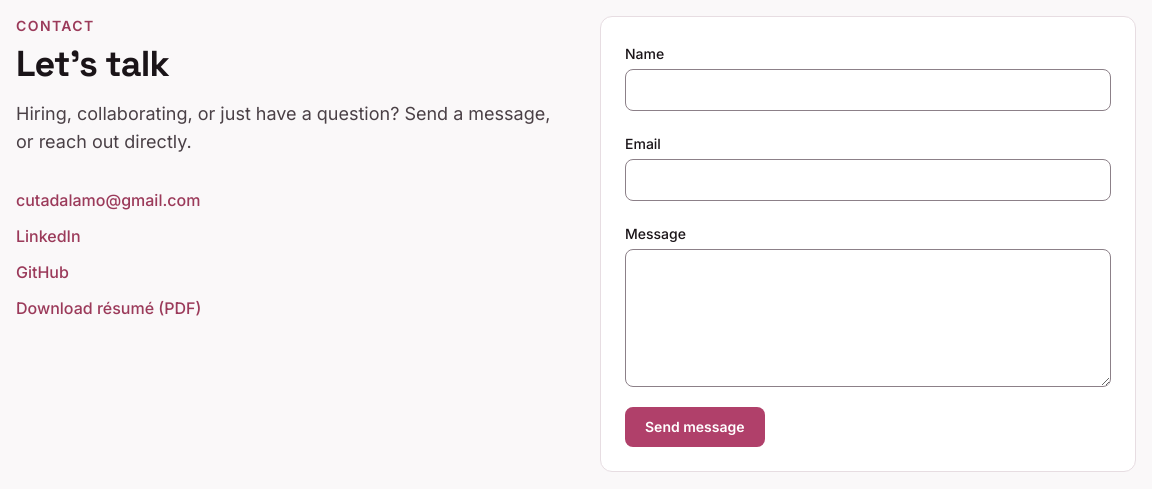
Test: Contact form › shows the server message when rate-limited
In the field labelled "Name": (868, 90) [625, 69, 1111, 111], type "Jane Recruiter"
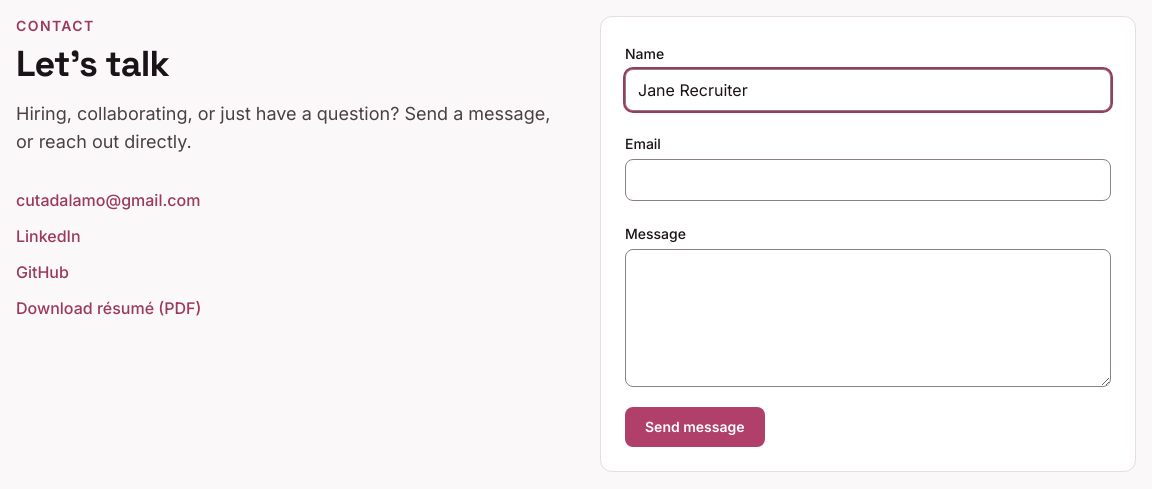
In the field labelled "Email": (868, 180) [625, 159, 1111, 201], type "jane@example.com"
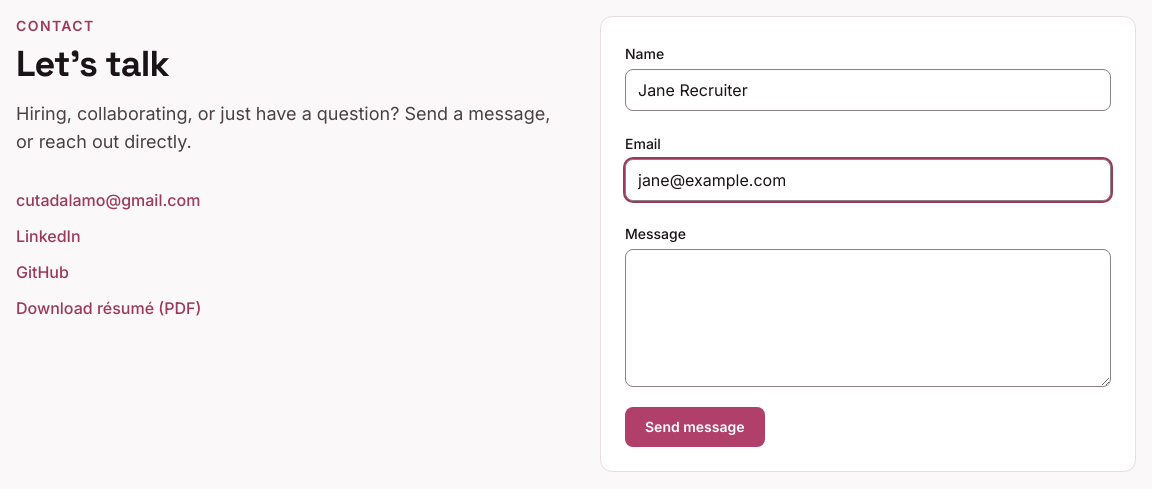
In the text box labelled "Message": (868, 318) [625, 249, 1111, 387], type "We would like to talk about a role."
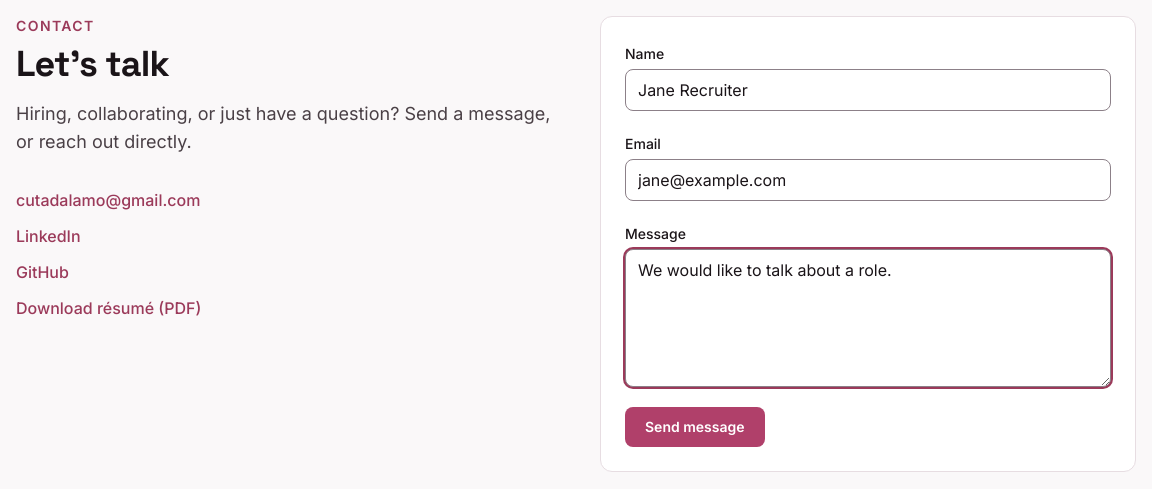
Click the button "Send message": (695, 427) [625, 407, 765, 447]
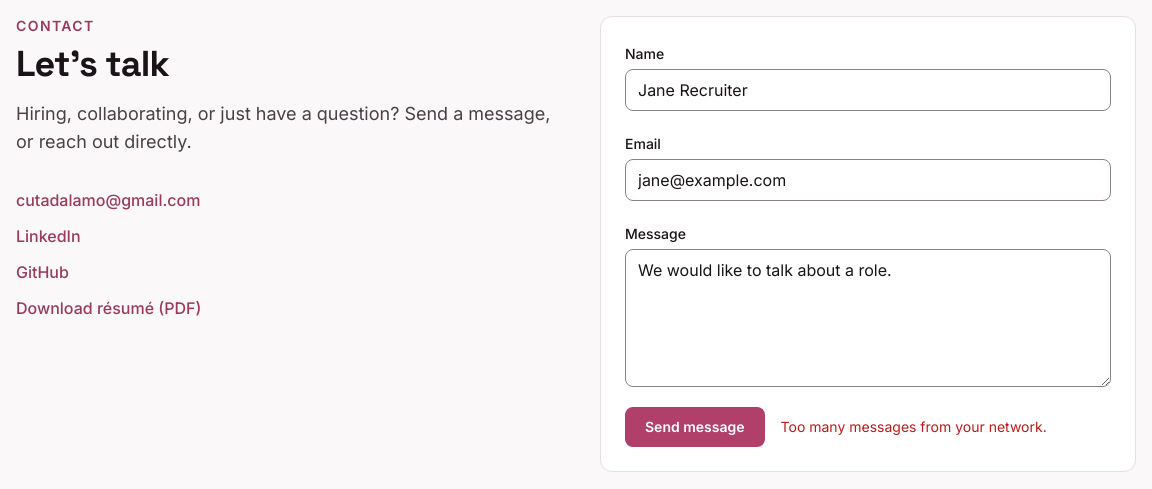
Expected: the message reads "Too many messages from your network.", [781, 418, 1047, 435]
